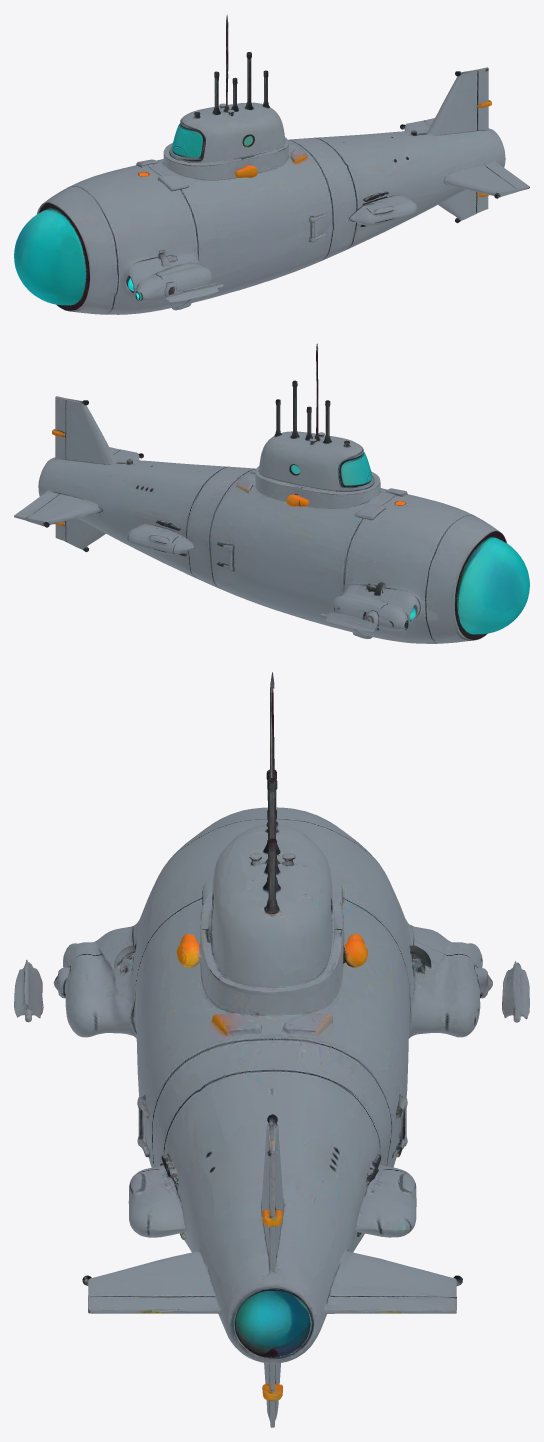
File: ocean-submarine.glb
3 renders of one model, top to bottom at view 1: azimuth 30°, elevation 25°; view 2: azimuth 150°, elevation 25°; view 3: azimuth 270°, elevation 25°, orthographic. The views are drawn at different scales.
Parts seen in each view (by area): view 1: Mesh_0; view 2: Mesh_0; view 3: Mesh_0.
Part boxes in pixels (x1,y1,x2,y2): Mesh_0: [14, 14, 529, 314]; Mesh_0: [14, 343, 529, 643]; Mesh_0: [14, 672, 529, 1427].
Size of the model in its own units: 1.9 by 1.05 by 0.9138.
1 material, 1 textured.
